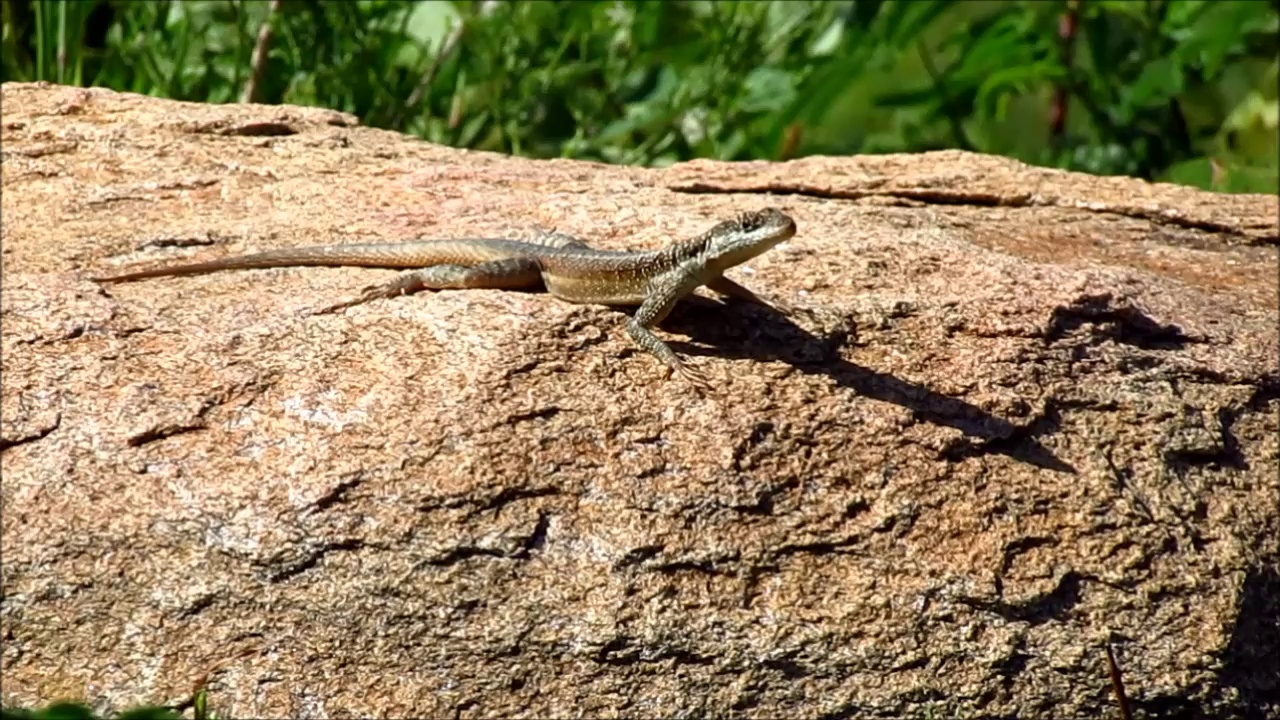body: (83, 227, 717, 395)
head: (705, 206, 797, 267)
